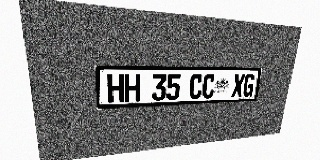3: (152, 74, 167, 101)
5: (166, 74, 181, 100)
C: (201, 74, 216, 99), (189, 74, 203, 99)
G: (242, 74, 256, 97)
H: (107, 74, 124, 103), (124, 74, 140, 102)
X: (231, 74, 245, 97)
